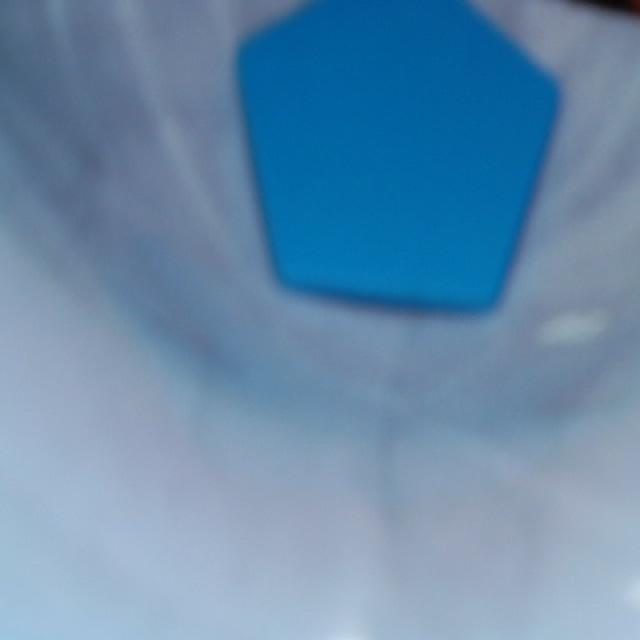pentagon: (239, 0, 559, 308)
